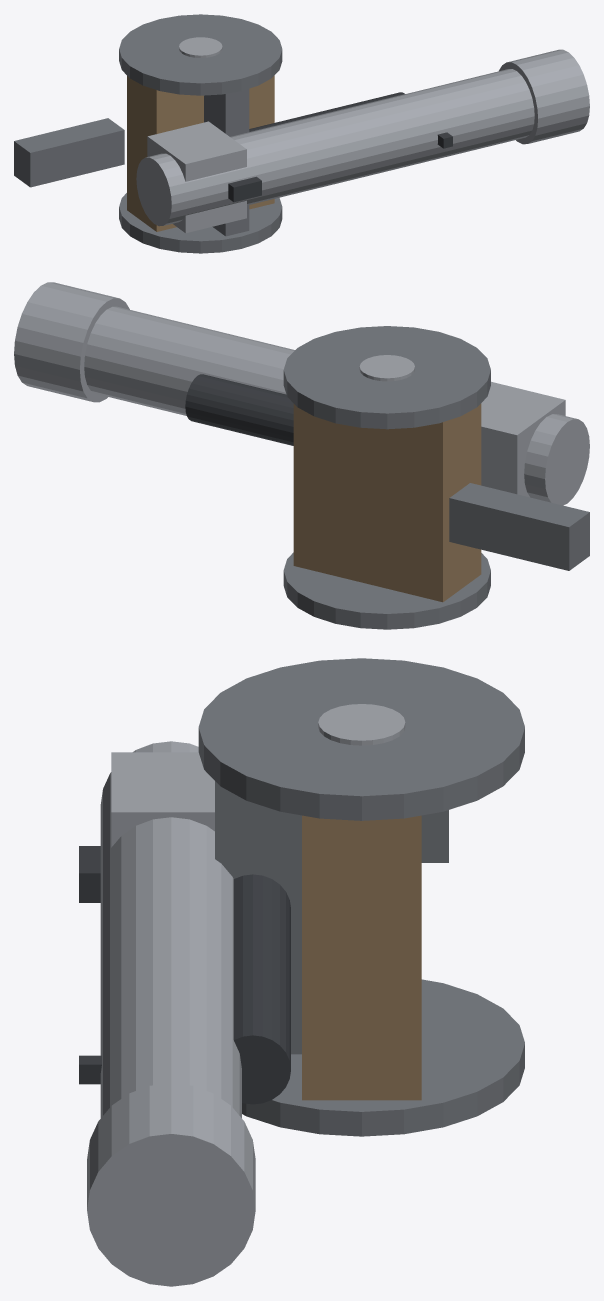
The model's file is howitzer_body.glb.
3 views of the same model, one above another, from view 1: azimuth 30°, elevation 25°; view 2: azimuth 150°, elevation 25°; view 3: azimuth 270°, elevation 25° (orthographic). The views are drawn at different scales.
Parts seen in each view (by area): view 1: geometry_0; view 2: geometry_0; view 3: geometry_0.
Boxes of the visible parts, x1,y1,x2,y2 form: geometry_0: (14, 14, 589, 253); geometry_0: (14, 282, 589, 629); geometry_0: (79, 658, 524, 1286).
Bounding box in the file's own units: 20.6 × 7.1 × 8.2.
